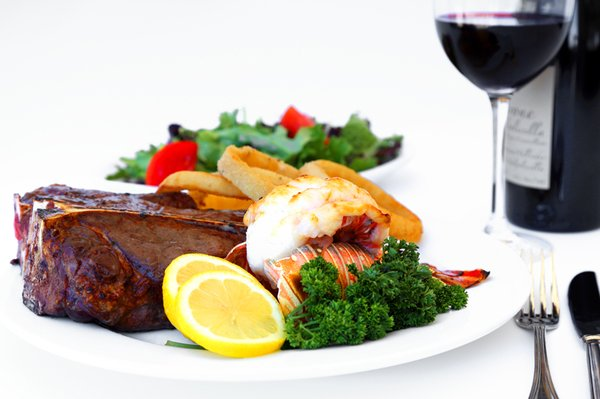burger: (519, 247, 560, 399), (530, 250, 561, 399)
curry: (283, 236, 470, 351)
sandwich: (567, 271, 600, 398)
taco: (162, 253, 287, 359)
